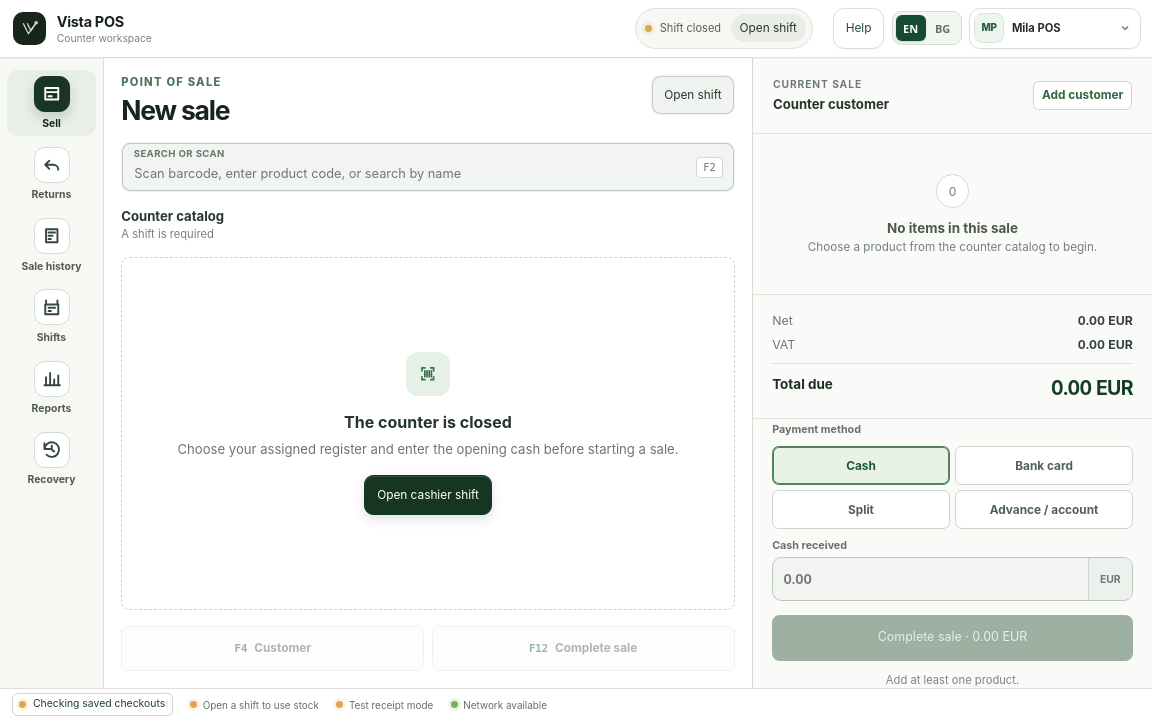
it: POS application › shows operational shift reporting with clear simulator evidence
expect the heading "New sale" is shown: met, box [121, 94, 229, 126]
Click the link "Reports": (52,388) [32, 360, 71, 415]
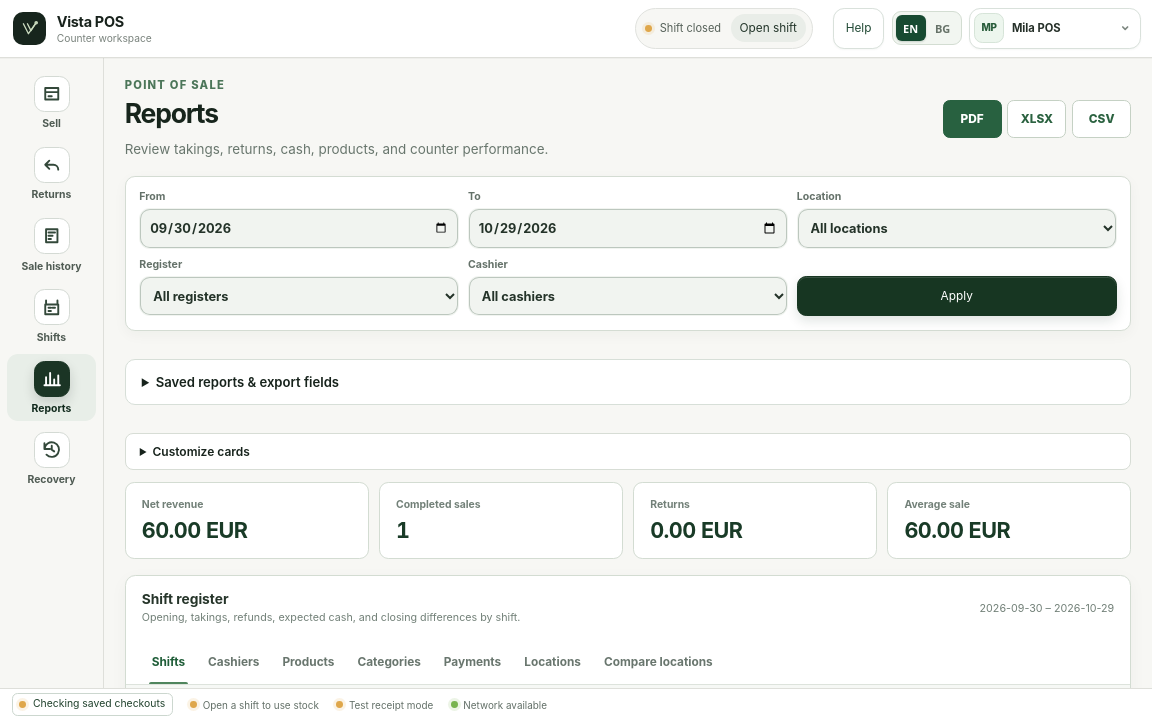
Click the tab "Locations": (553,662) [514, 640, 591, 684]
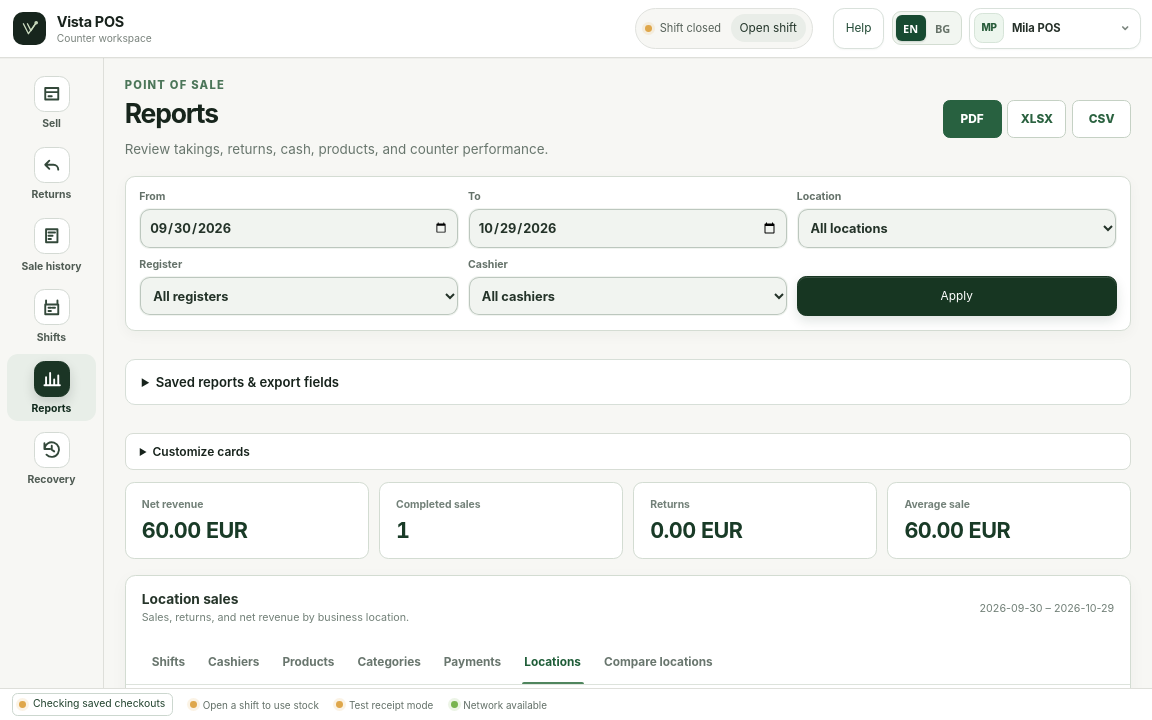
expect the text "Location sales" is shown: met, box [142, 591, 238, 607]
Click the tab "Compare locations": (658,662) [594, 640, 723, 684]
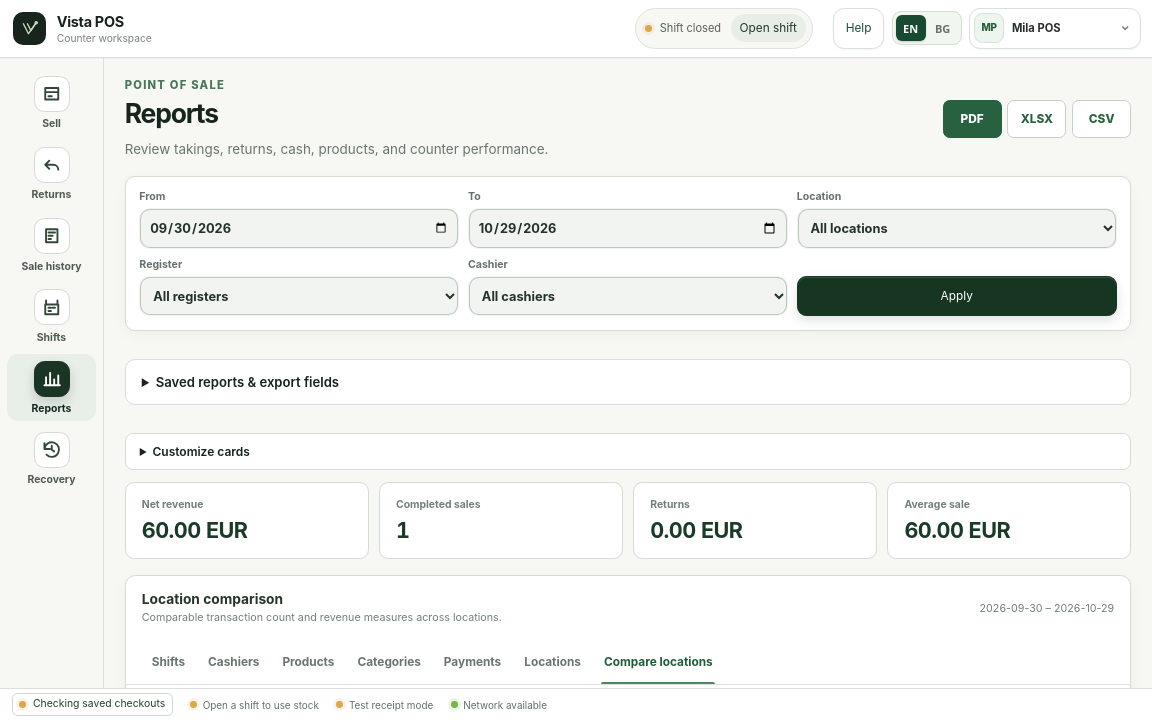
expect the text "Location comparison" is shown: met, box [142, 591, 283, 607]
Click the tab "Shifts": (168,662) [142, 640, 195, 684]
(page scrolled)
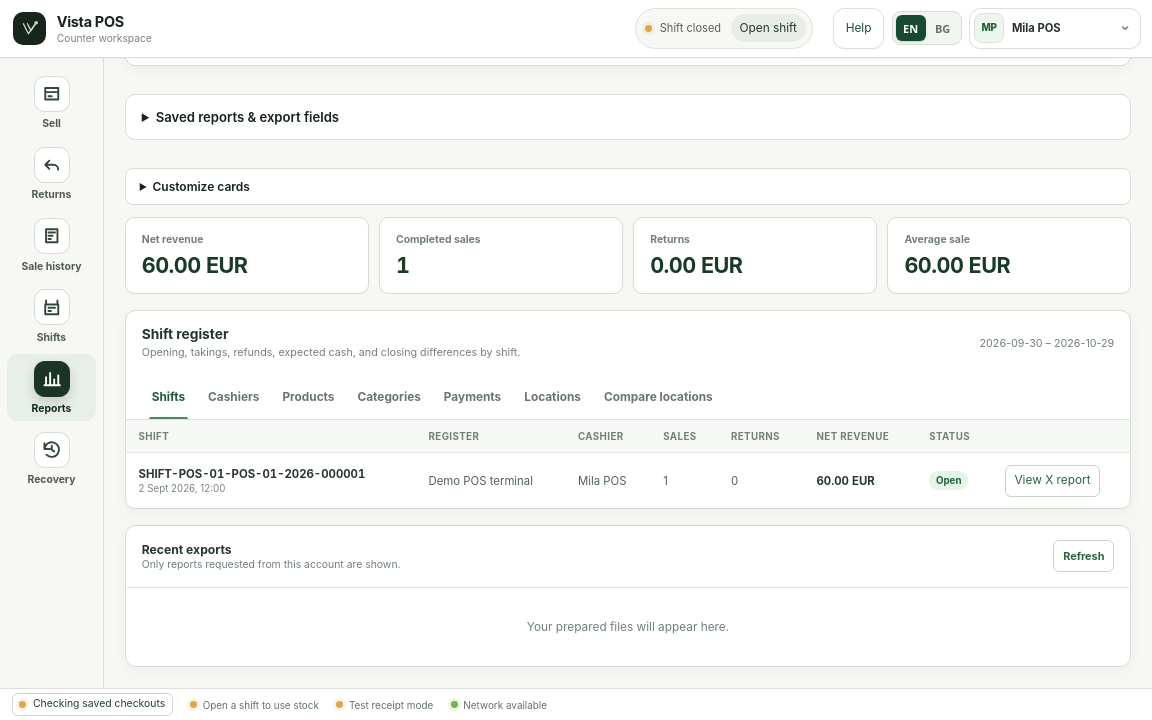
Click the button "View X report": (1052,480) [1005, 464, 1100, 496]
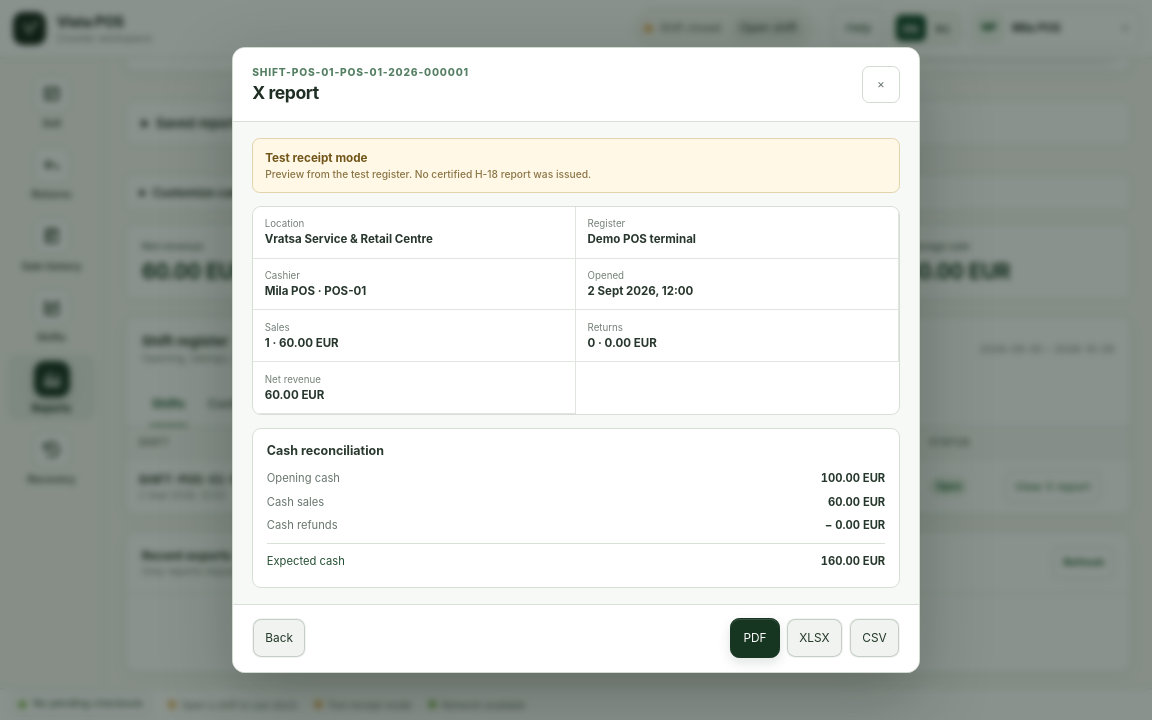
expect the heading "X report" is shown: met, box [252, 82, 319, 103]
expect the text "Preview from the test register. No certified H-18 report was issued." is shown: met, box [265, 168, 591, 180]
expect the text "160.00 EUR" is shown: met, box [821, 554, 885, 568]
